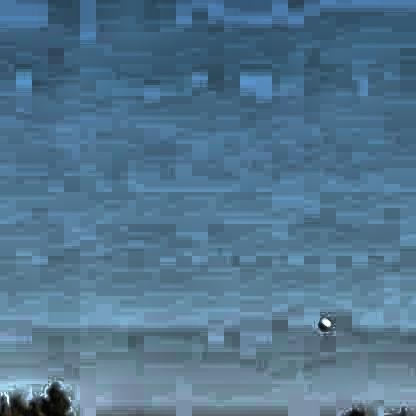golfball: (315, 315, 327, 327)
